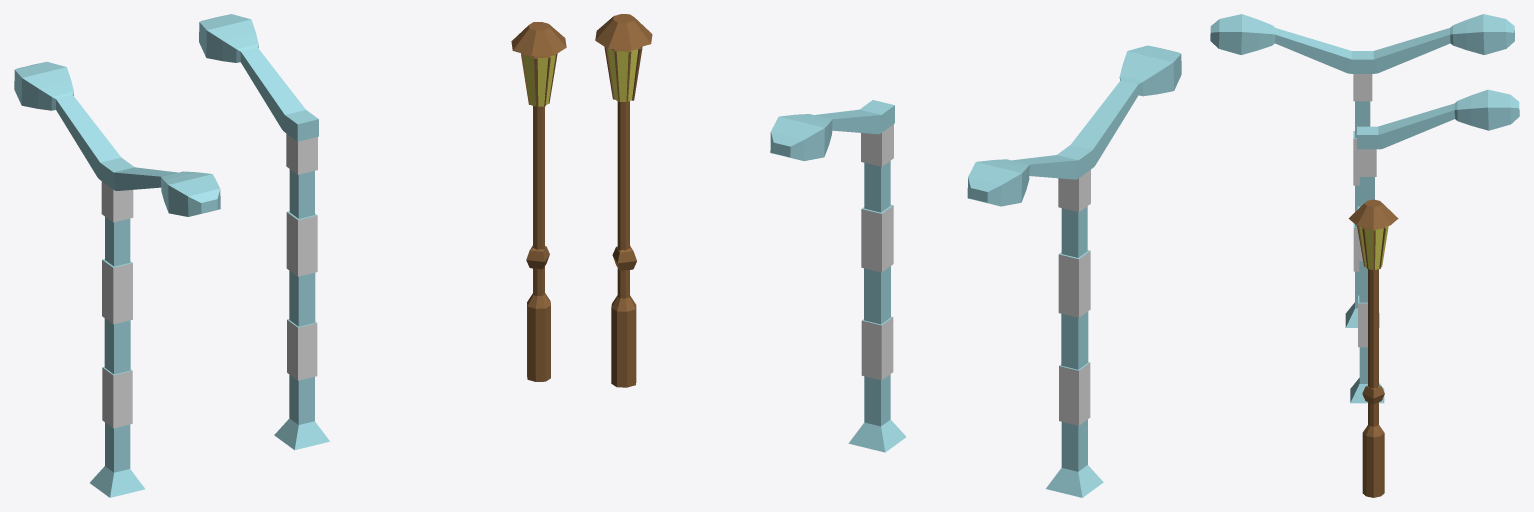
Rendered from street_lamp.fbx.
3 views of the same model, side by side, from view 1: azimuth 30°, elevation 25°; view 2: azimuth 150°, elevation 25°; view 3: azimuth 270°, elevation 25° (orthographic). The views are drawn at different scales.
Visible parts, largest first — view 1: street_lamp_Y, street_lamp_L, street_lamp_l; view 2: street_lamp_Y, street_lamp_L, street_lamp_l; view 3: street_lamp_Y, street_lamp_L, street_lamp_l.
Part boxes in pixels (<box>): street_lamp_Y: <box>14,61,220,497</box>; street_lamp_L: <box>199,14,329,450</box>; street_lamp_l: <box>511,22,566,381</box>; street_lamp_Y: <box>967,45,1181,497</box>; street_lamp_L: <box>770,100,906,452</box>; street_lamp_l: <box>595,14,652,387</box>; street_lamp_Y: <box>1210,14,1514,327</box>; street_lamp_L: <box>1350,89,1519,403</box>; street_lamp_l: <box>1348,199,1398,497</box>.
Bounding box in the file's own units: 548 × 396 × 372.
